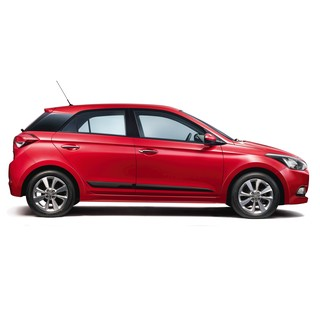car: (7, 104, 311, 217)
